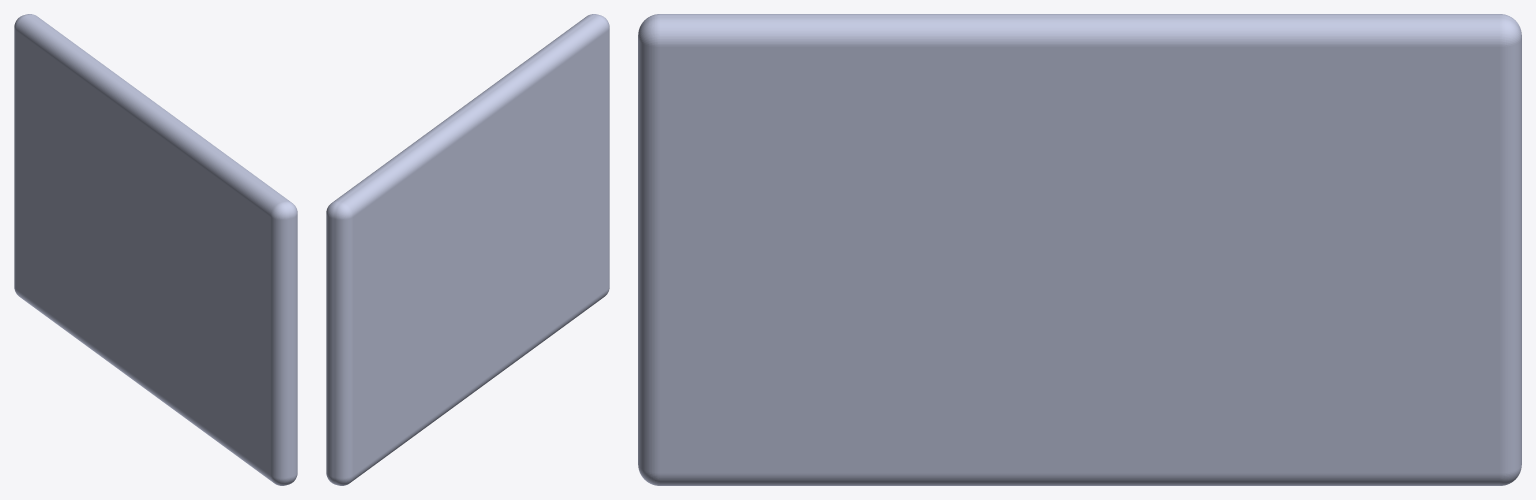
Rendered from Obstacle2.fbx.
The picture shows the model from 3 angles, left to right: view 1: azimuth 30°, elevation 25°; view 2: azimuth 150°, elevation 25°; view 3: azimuth 270°, elevation 25°; orthographic projection. The views are drawn at different scales.
Parts seen in each view (by area): view 1: Cube.002; view 2: Cube.002; view 3: Cube.002.
Part boxes in pixels (<box>): Cube.002: <box>14,14,297,485</box>; Cube.002: <box>326,14,609,485</box>; Cube.002: <box>638,14,1521,485</box>.
Size of the model in its own units: 30 by 320 by 550.
